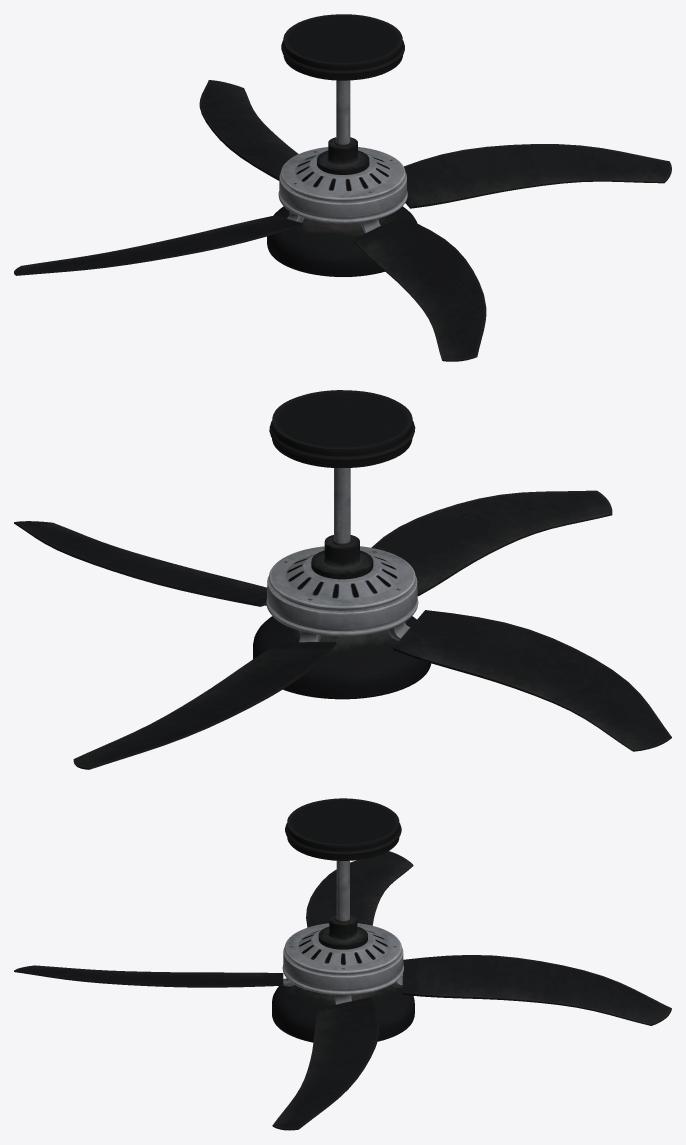
File: ceiling_fan(1).glb
3 renders of one model, top to bottom at view 1: azimuth 30°, elevation 25°; view 2: azimuth 150°, elevation 25°; view 3: azimuth 270°, elevation 25°, orthographic. The views are drawn at different scales.
Visible parts, largest first — view 1: ceiling_fan_blades, ceiling_fan; view 2: ceiling_fan_blades, ceiling_fan; view 3: ceiling_fan_blades, ceiling_fan.
Boxes of the visible parts, x1=… form: ceiling_fan_blades: x1=14, y1=80, x2=671, y2=361; ceiling_fan: x1=267, y1=14, x2=417, y2=277; ceiling_fan_blades: x1=14, y1=490, x2=671, y2=769; ceiling_fan: x1=253, y1=390, x2=431, y2=700; ceiling_fan_blades: x1=14, y1=851, x2=671, y2=1130; ceiling_fan: x1=272, y1=798, x2=414, y2=1042.
Size of the model in its own units: 1.46 by 0.5163 by 1.46.
Materials: 1 (1 with a texture image).
